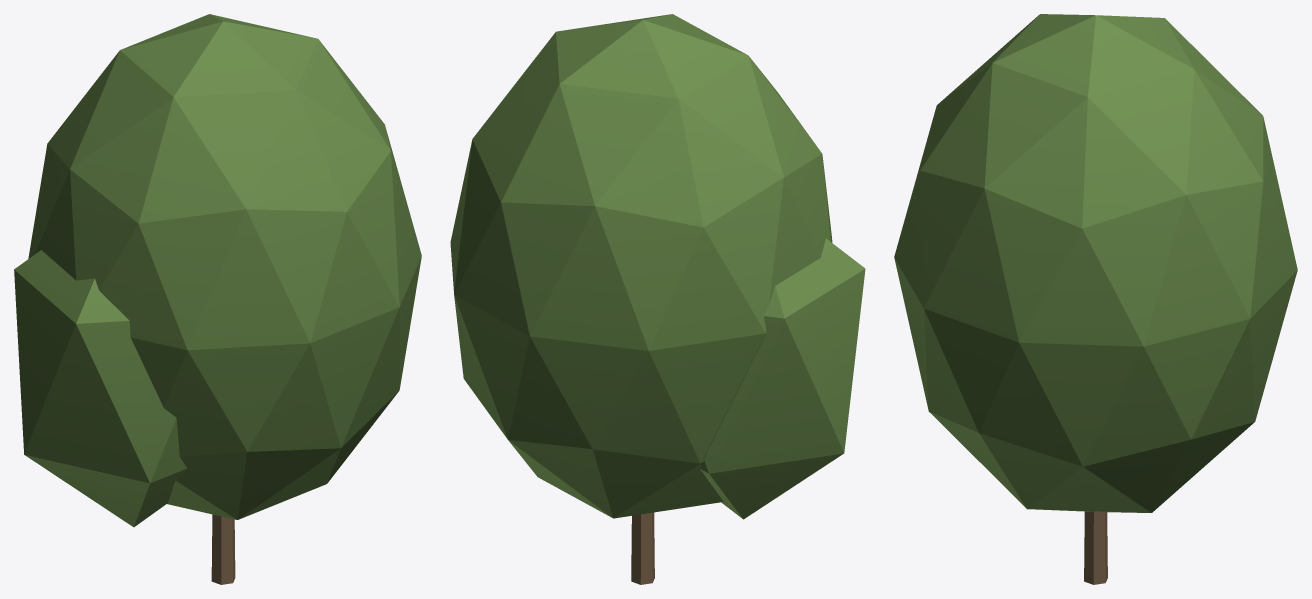
3 renders of one model, left to right at view 1: azimuth 30°, elevation 25°; view 2: azimuth 150°, elevation 25°; view 3: azimuth 270°, elevation 25°, orthographic.
Visible parts, largest first — view 1: tree_8901; view 2: tree_8901; view 3: tree_8901.
Boxes of the visible parts, x1,y1,x2,y2 form: tree_8901: (14,14,421,584); tree_8901: (450,14,865,584); tree_8901: (894,14,1297,584).
Bounding box in the file's own units: 6.02 × 8.71 × 5.64.
